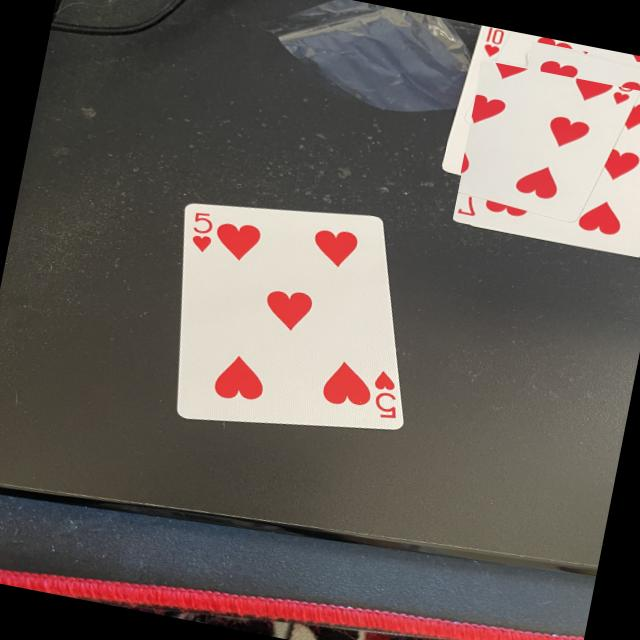10 of hearts: (443, 26, 640, 176)
5 of hearts: (179, 209, 404, 428)
6 of hearts: (503, 42, 640, 230)
7 of hearts: (454, 95, 640, 258)
